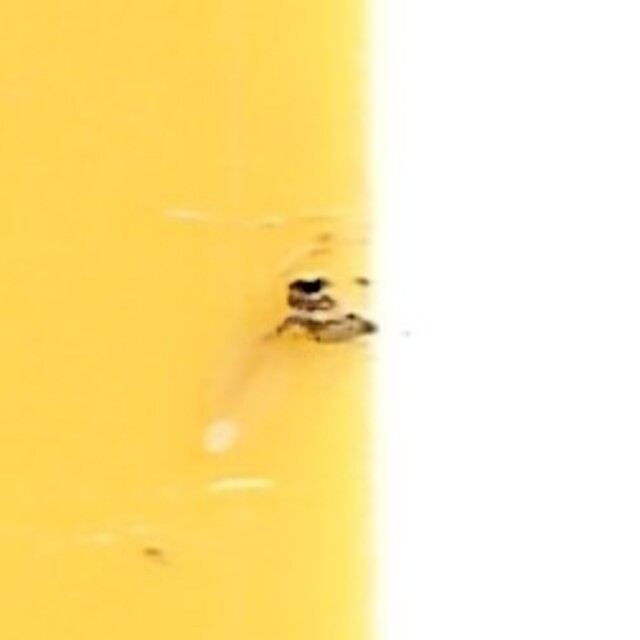Nematocera: (254, 252, 386, 388)
